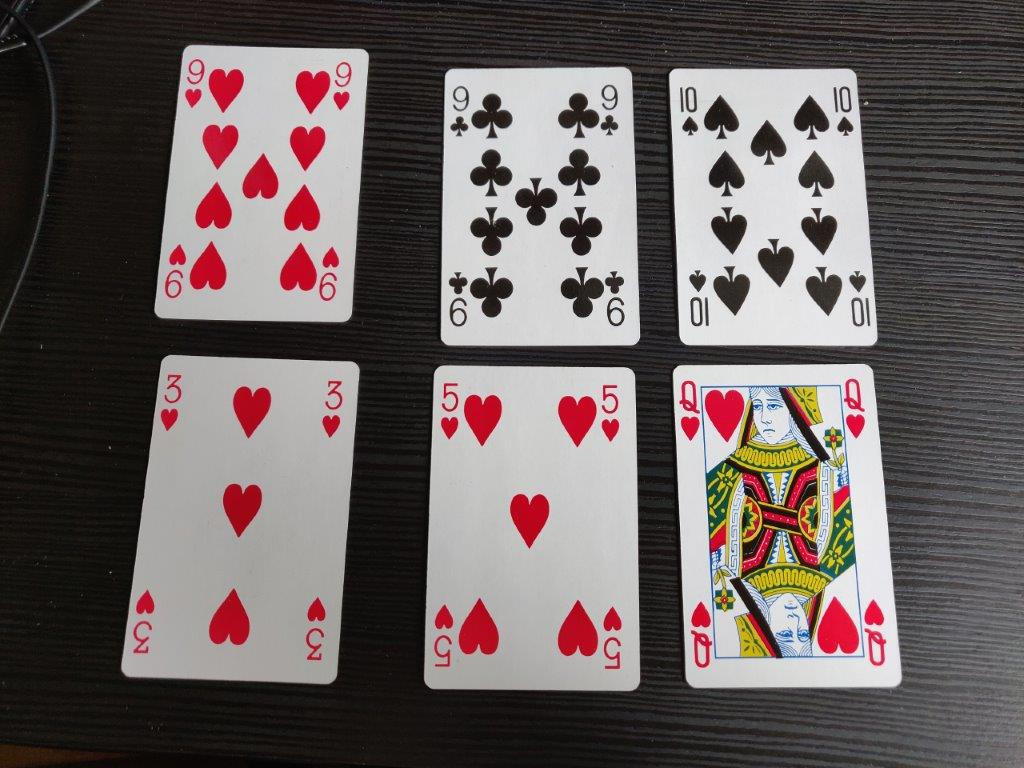10S: (671, 82, 702, 140), (826, 80, 855, 140)
3H: (156, 368, 184, 433), (320, 373, 344, 442)
5H: (436, 378, 462, 442), (597, 379, 620, 447)
9C: (444, 78, 472, 137), (595, 83, 622, 138)
9H: (181, 51, 207, 112), (328, 57, 355, 114)
QH: (838, 376, 869, 441), (676, 376, 705, 445)
